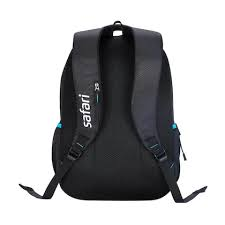backpack: (18, 20, 207, 203)
